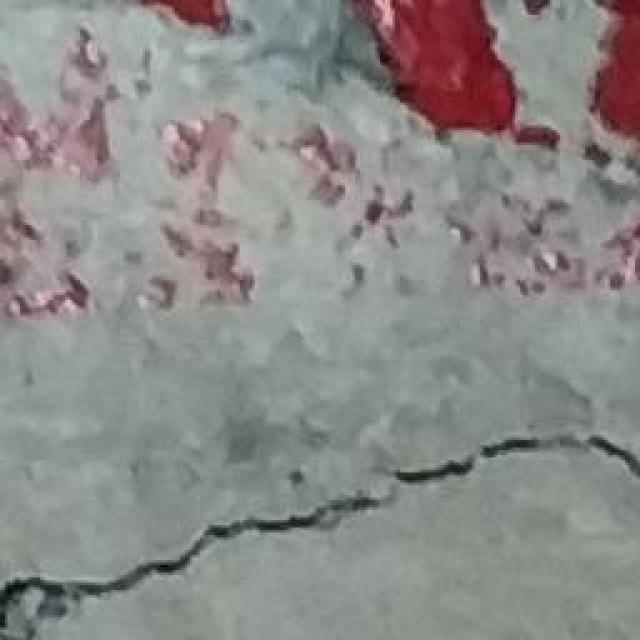Diagonal: (0, 424, 640, 640)
Rippled: (0, 0, 640, 321)
